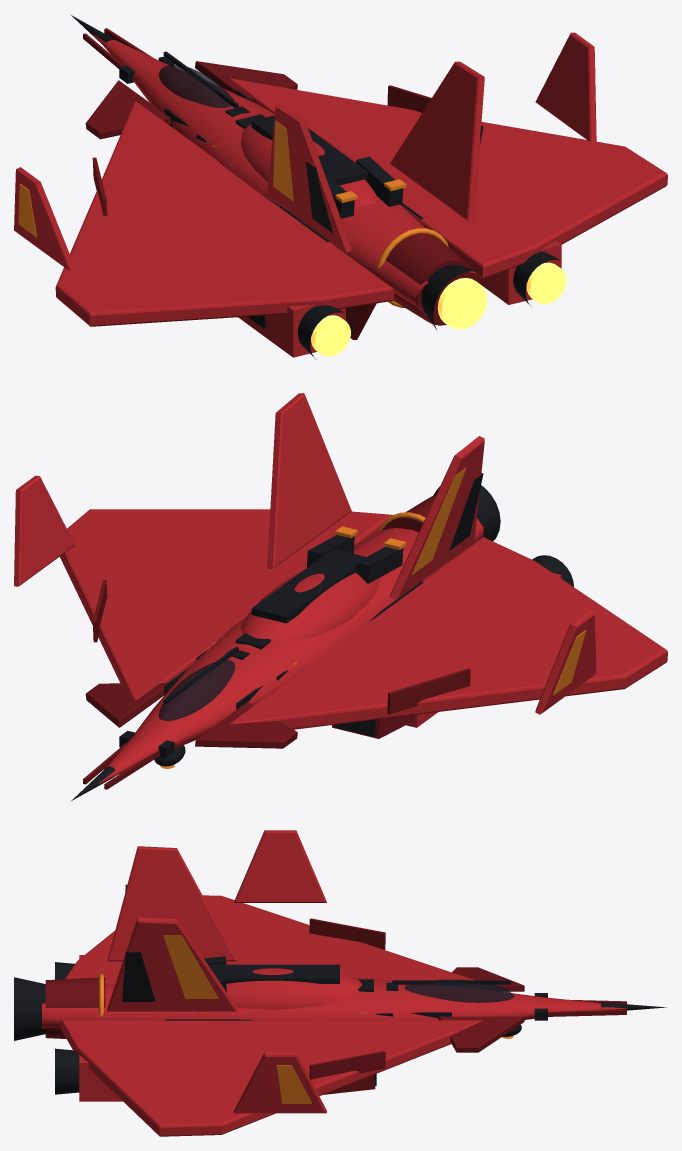
Rendered from valkyrie-lancer.glb.
The picture shows the model from 3 angles, top to bottom: view 1: azimuth 30°, elevation 25°; view 2: azimuth 150°, elevation 25°; view 3: azimuth 270°, elevation 25°; orthographic projection. The views are drawn at different scales.
Parts seen in each view (by area): view 1: wing_port, wing_stbd, fuselage, tail_fin_stbd, tail_fin_port, winglet_stbd, drive_housing, winglet_port, forward_strake_port, drive_core, reactor_hump, sponson_port (+16 smaller); view 2: wing_port, wing_stbd, fuselage, tail_fin_stbd, reactor_hump, tail_fin_port, winglet_stbd, reactor_cap, winglet_port, forward_strake_port, canopy_glass, forward_strake_stbd (+9 smaller); view 3: wing_stbd, fuselage, wing_port, tail_fin_port, tail_fin_stbd, winglet_port, reactor_hump, winglet_stbd, reactor_cap, drive_housing, forward_strake_stbd, canopy_glass (+10 smaller).
Part boxes in pixels (box(x1,y1,x2,y2)): wing_port: box(55, 101, 394, 326); wing_stbd: box(230, 78, 667, 278); fuselage: box(91, 33, 476, 310); tail_fin_stbd: box(390, 61, 484, 221); tail_fin_port: box(267, 104, 351, 252); winglet_stbd: box(535, 32, 596, 143); drive_housing: box(386, 233, 477, 325); winglet_port: box(14, 167, 75, 271); forward_strake_port: box(85, 80, 171, 139); drive_core: box(437, 278, 487, 329); reactor_hump: box(241, 124, 378, 207); sponson_port: box(238, 305, 345, 357); wing_port: box(230, 537, 667, 729); wing_stbd: box(60, 509, 392, 700); fuselage: box(98, 518, 483, 784); tail_fin_stbd: box(267, 393, 351, 568); reactor_hump: box(241, 573, 380, 642); tail_fin_port: box(390, 436, 484, 599); winglet_stbd: box(14, 475, 74, 586); reactor_cap: box(251, 549, 365, 623); winglet_port: box(535, 610, 596, 714); forward_strake_port: box(195, 702, 297, 748); canopy_glass: box(158, 660, 235, 721); forward_strake_stbd: box(85, 683, 167, 727); wing_stbd: box(61, 1020, 481, 1136); fuselage: box(42, 978, 626, 1028); wing_port: box(65, 895, 474, 983); tail_fin_port: box(107, 846, 237, 961); tail_fin_stbd: box(107, 917, 237, 1011); winglet_port: box(234, 830, 326, 902); reactor_hump: box(226, 968, 361, 1009); winglet_stbd: box(234, 1052, 326, 1113); reactor_cap: box(208, 964, 339, 983); drive_housing: box(45, 977, 105, 1038); forward_strake_stbd: box(439, 1016, 524, 1052); canopy_glass: box(405, 979, 514, 1002).
Bounding box in the file's own units: 15.31 × 5.46 × 18.2.
